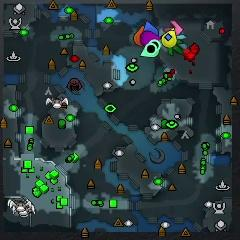p1: (143, 20, 159, 36)
p2: (140, 46, 160, 56)
p2Clone: (146, 43, 156, 54), (149, 39, 160, 49)
p3: (140, 30, 160, 44)
p4: (162, 27, 178, 46)
p5: (133, 26, 146, 46)
x1: (165, 21, 182, 35)
x3: (177, 33, 187, 49)
x4: (166, 42, 184, 56)
